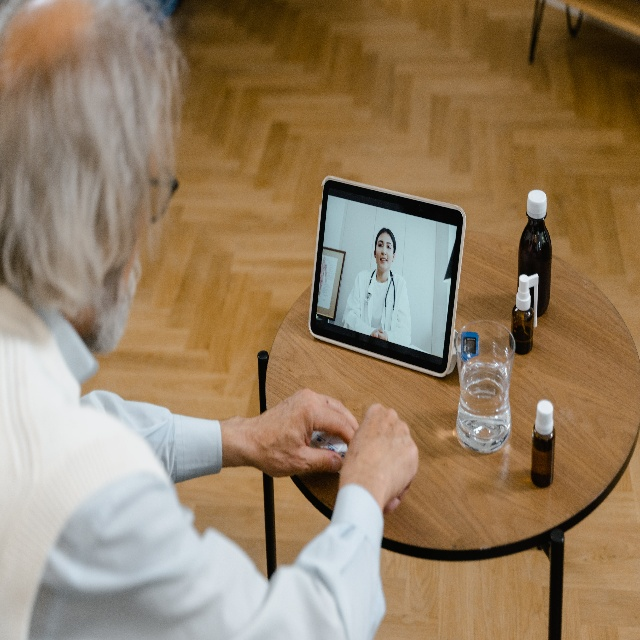Gafas: (149, 162, 179, 223)
Sin_guantes: (251, 386, 359, 480), (337, 401, 420, 515), (376, 328, 388, 341)
